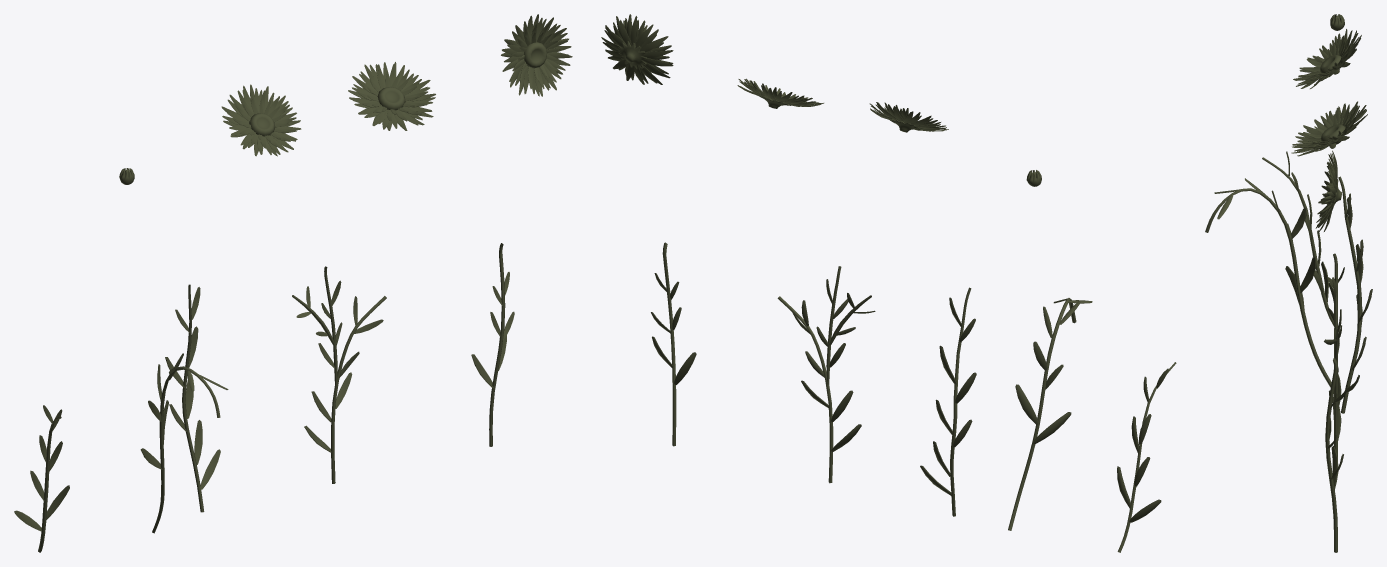
Rendered from everlasting_daisies.fbx.
3 views of the same model, side by side, from view 1: azimuth 30°, elevation 25°; view 2: azimuth 150°, elevation 25°; view 3: azimuth 270°, elevation 25° (orthographic).
Visible parts, largest first — view 1: group1_pPlane26, daisy_flower_v1_, group1_pPlane21, daisy_stem_v5_, daisy_stem_v2_, disy_stem_v6_, daisy_stem_v7_, daisy_stem_v1_, daisy_stem_v3_; view 2: daisy_flower_v1_, disy_stem_v6_, daisy_stem_v5_, daisy_stem_v2_, daisy_stem_v7_, daisy_stem_v1_, group1_pPlane21, group1_pPlane26, daisy_stem_v3_; view 3: disy_stem_v6_, group1_pPlane26, group1_pPlane21, daisy_stem_v5_, daisy_stem_v1_, daisy_stem_v7_, daisy_flower_v1_, daisy_stem_v2_, daisy_stem_v3_.
Part boxes in pixels (box(x1,y1,x2,y2)): group1_pPlane26: box(348, 62, 435, 130); daisy_flower_v1_: box(501, 14, 572, 96); group1_pPlane21: box(221, 84, 301, 156); daisy_stem_v5_: box(165, 284, 220, 512); daisy_stem_v2_: box(304, 296, 386, 483); disy_stem_v6_: box(140, 353, 228, 533); daisy_stem_v7_: box(14, 405, 69, 552); daisy_stem_v1_: box(471, 243, 514, 446); daisy_stem_v3_: box(318, 266, 342, 384); daisy_flower_v1_: box(601, 14, 673, 84); disy_stem_v6_: box(1008, 298, 1092, 530); daisy_stem_v5_: box(920, 287, 976, 516); daisy_stem_v2_: box(777, 296, 861, 483); daisy_stem_v7_: box(1117, 362, 1176, 552); daisy_stem_v1_: box(651, 242, 696, 446); group1_pPlane21: box(869, 102, 948, 132); group1_pPlane26: box(737, 78, 823, 108); daisy_stem_v3_: box(816, 266, 848, 384); disy_stem_v6_: box(1205, 178, 1331, 387); group1_pPlane26: box(1291, 101, 1367, 156); group1_pPlane21: box(1293, 29, 1361, 88); daisy_stem_v5_: box(1338, 176, 1372, 413); daisy_stem_v1_: box(1325, 357, 1343, 552); daisy_stem_v7_: box(1262, 151, 1339, 332); daisy_flower_v1_: box(1315, 150, 1341, 233); daisy_stem_v2_: box(1324, 309, 1348, 458); daisy_stem_v3_: box(1328, 253, 1341, 353).
Size of the model in its own units: 221 by 161 by 58.03.
